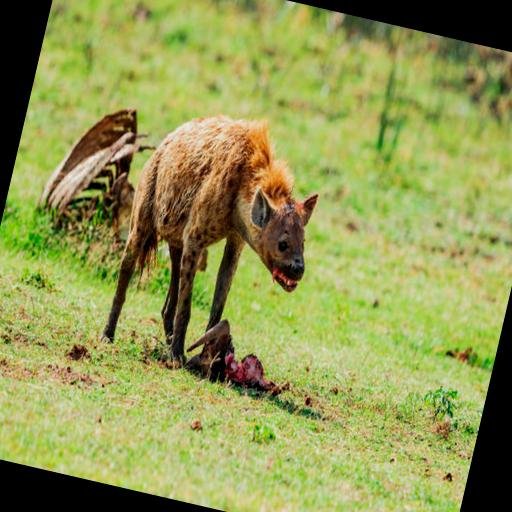hyenas: (100, 121, 360, 421)
